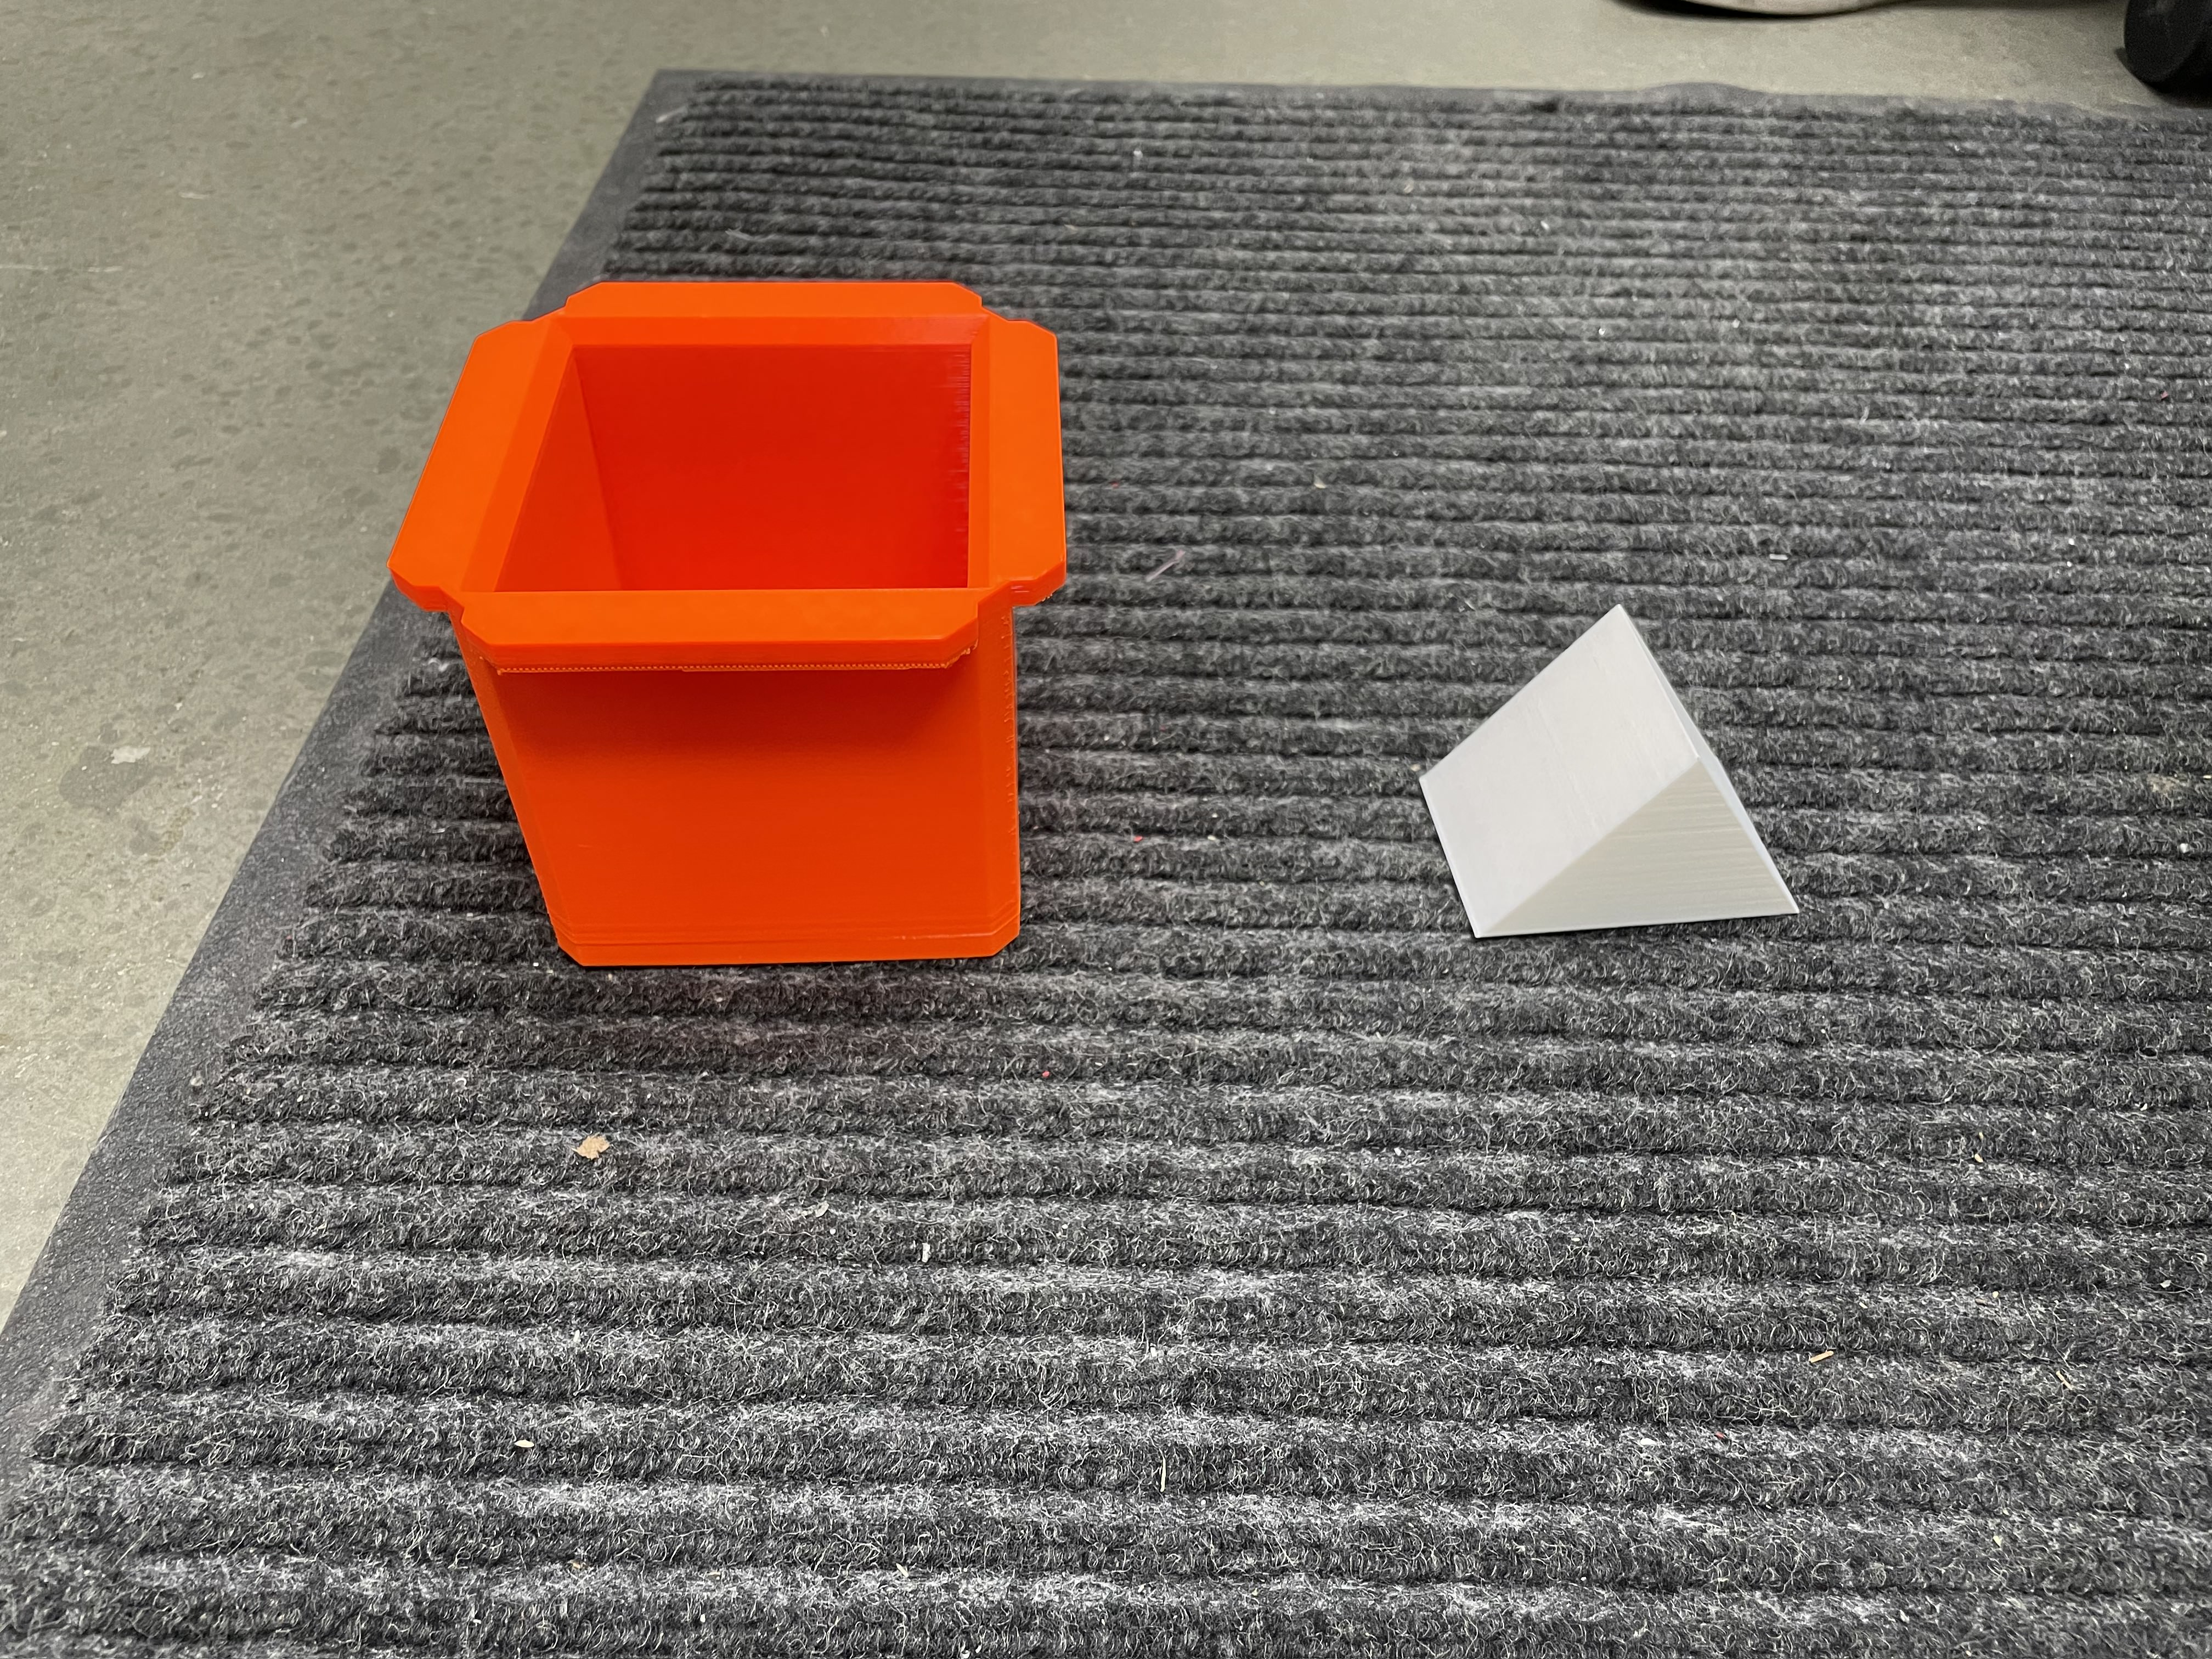payload1: (380, 268, 1136, 971)
payload2: (1395, 596, 1838, 967)
